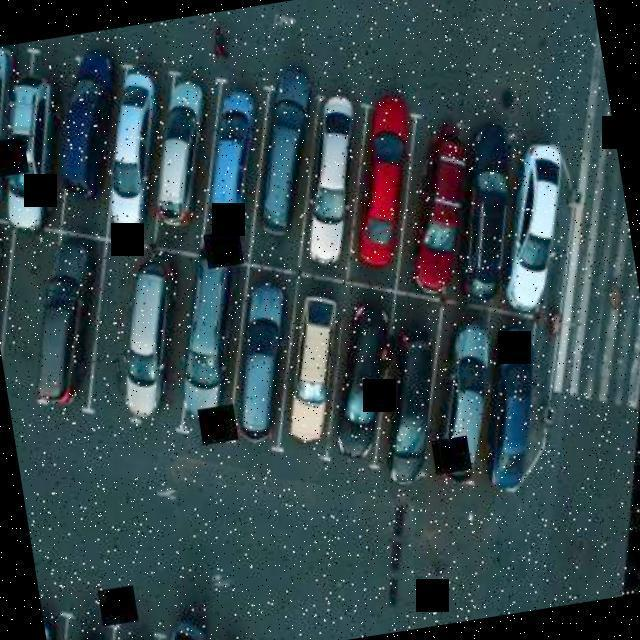car: (473, 114, 612, 339), (266, 66, 401, 289), (375, 92, 506, 316), (318, 71, 448, 284), (304, 281, 431, 498), (220, 45, 344, 265), (424, 110, 552, 318), (406, 310, 528, 520), (199, 264, 315, 472), (252, 277, 371, 478), (452, 316, 572, 512), (353, 309, 469, 501), (79, 61, 191, 255), (15, 230, 126, 420), (156, 245, 264, 438), (96, 256, 206, 445), (34, 27, 149, 202), (127, 65, 230, 244), (180, 76, 283, 245), (0, 64, 86, 249), (0, 212, 37, 396), (0, 45, 37, 208), (161, 591, 226, 640), (40, 595, 67, 640)
free: (65, 254, 161, 428), (0, 233, 80, 409)
